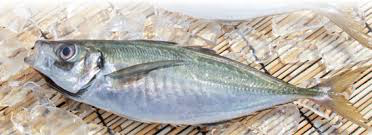azi: (21, 29, 363, 130)
